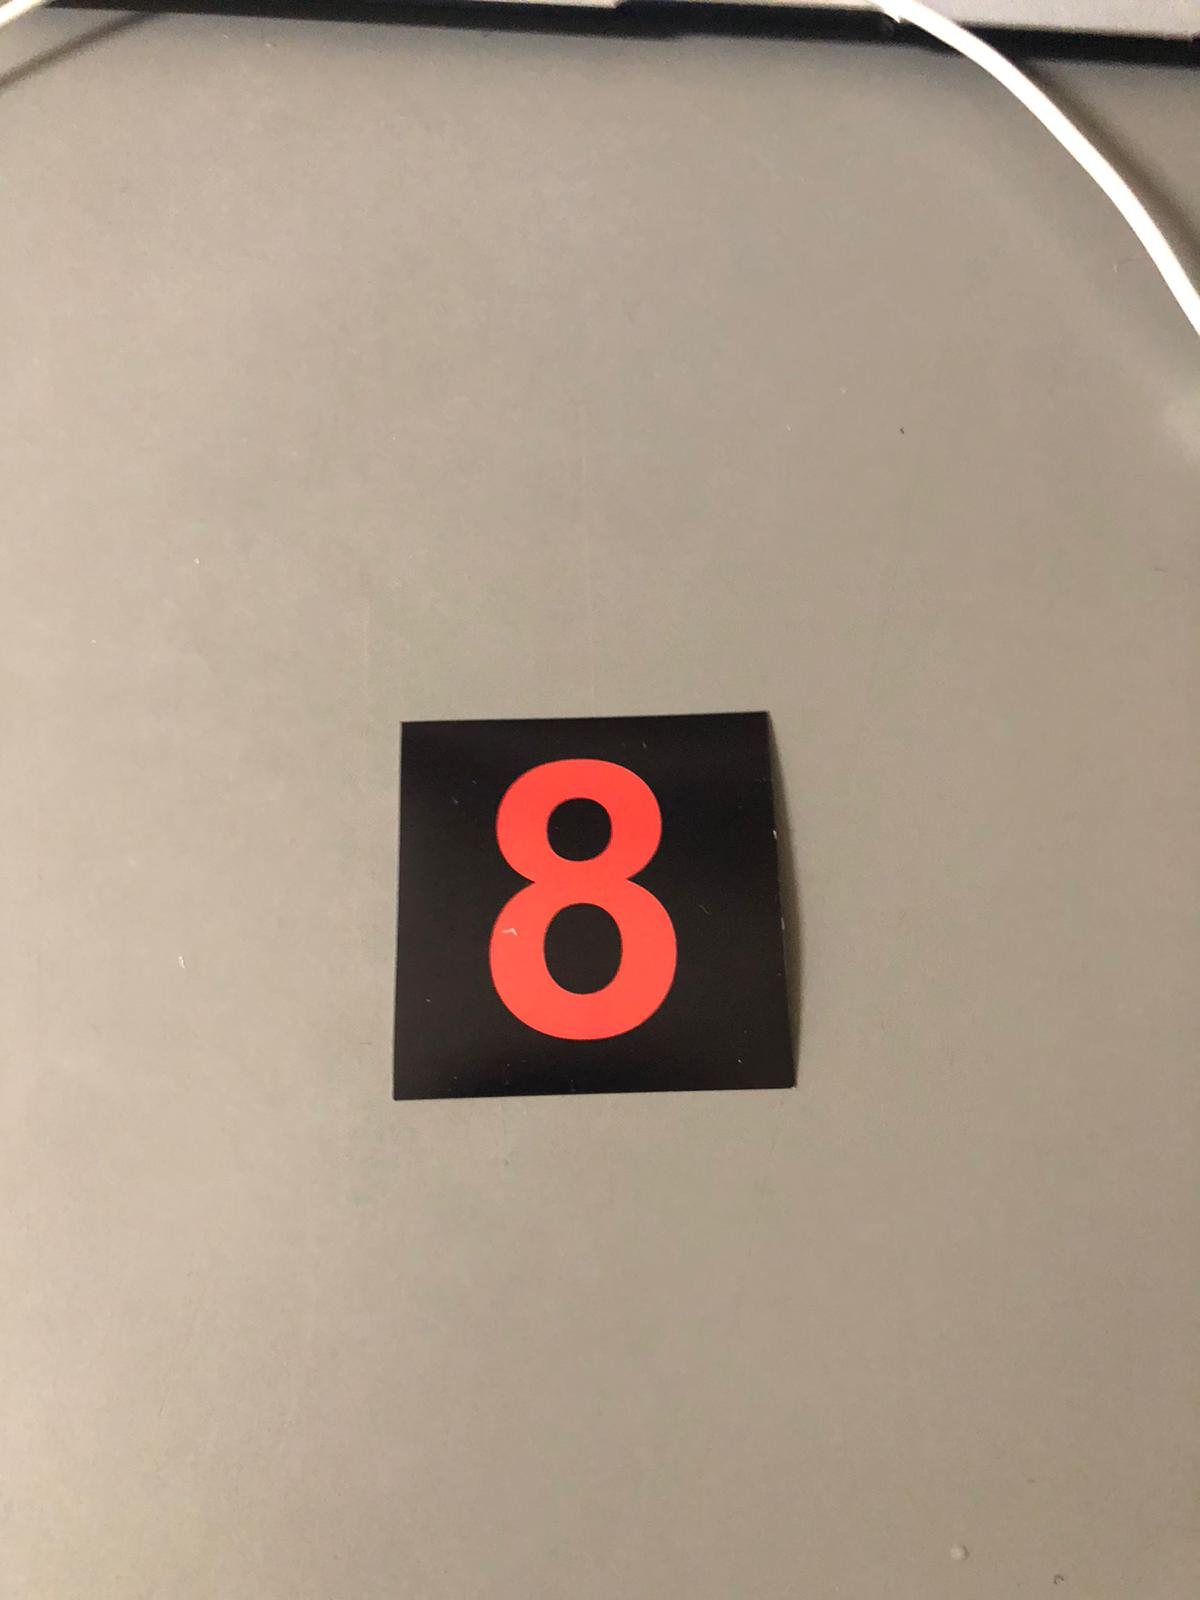Number 8: (396, 746, 771, 1073)
